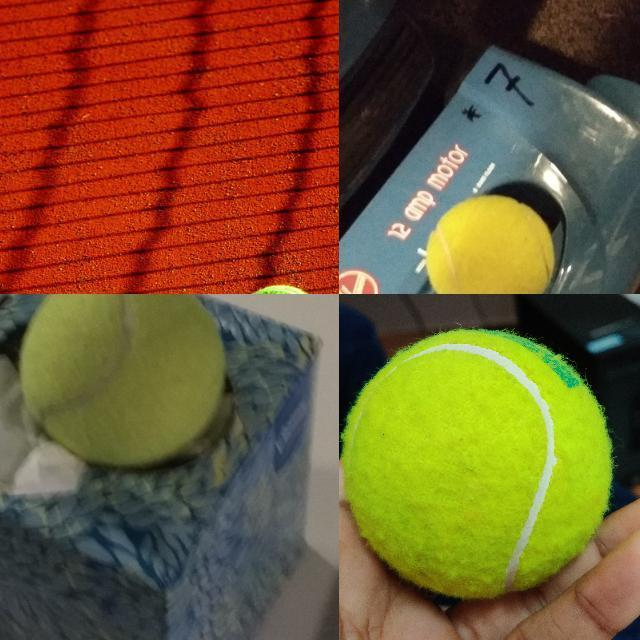tennis-ball: (343, 329, 612, 595), (17, 294, 228, 467), (425, 194, 556, 293)
